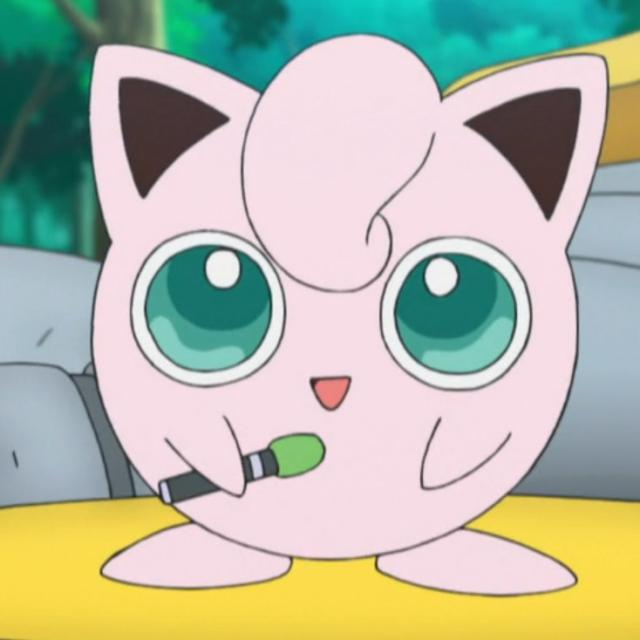Jigglypuff: (91, 37, 604, 588)
